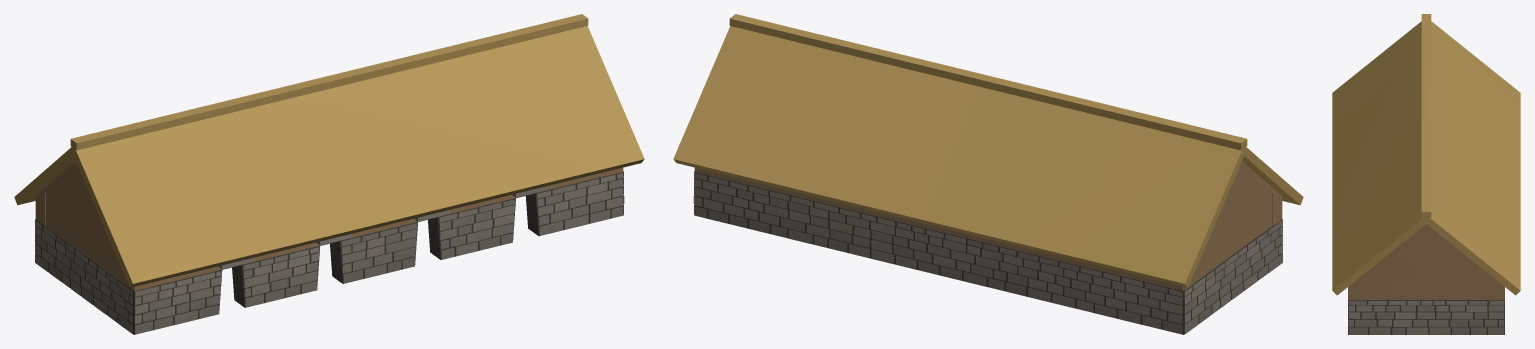
The model's file is cusco_kallanka_lod1.glb.
3 views of the same model, side by side, from view 1: azimuth 30°, elevation 25°; view 2: azimuth 150°, elevation 25°; view 3: azimuth 270°, elevation 25° (orthographic). The views are drawn at different scales.
Parts seen in each view (by area): view 1: GEO-Arch_cusco_kallanka_LOD1; view 2: GEO-Arch_cusco_kallanka_LOD1; view 3: GEO-Arch_cusco_kallanka_LOD1.
Part boxes in pixels (bbox=[...]): GEO-Arch_cusco_kallanka_LOD1: bbox=[14, 14, 644, 334]; GEO-Arch_cusco_kallanka_LOD1: bbox=[673, 14, 1303, 334]; GEO-Arch_cusco_kallanka_LOD1: bbox=[1332, 14, 1520, 334].
Size of the model in its own units: 20.9 by 6.26 by 8.4.
